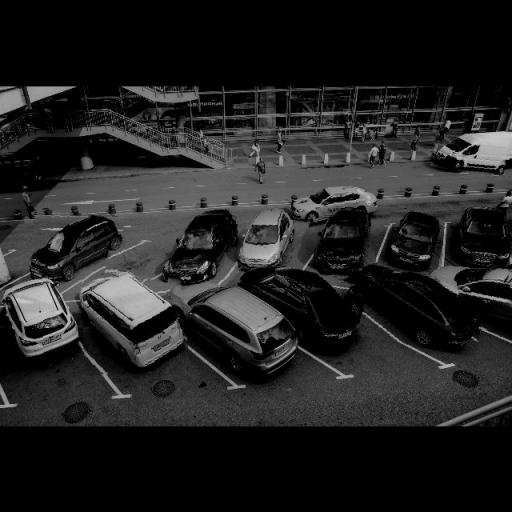busy: (352, 269, 486, 352), (180, 288, 302, 378), (79, 274, 188, 374), (264, 269, 365, 350), (4, 277, 82, 365), (30, 211, 124, 279), (160, 210, 238, 286), (310, 206, 374, 274), (386, 209, 444, 268), (233, 210, 292, 268), (432, 132, 508, 176), (457, 204, 512, 264), (457, 270, 512, 330), (288, 188, 366, 218)
free: (106, 236, 172, 281)
